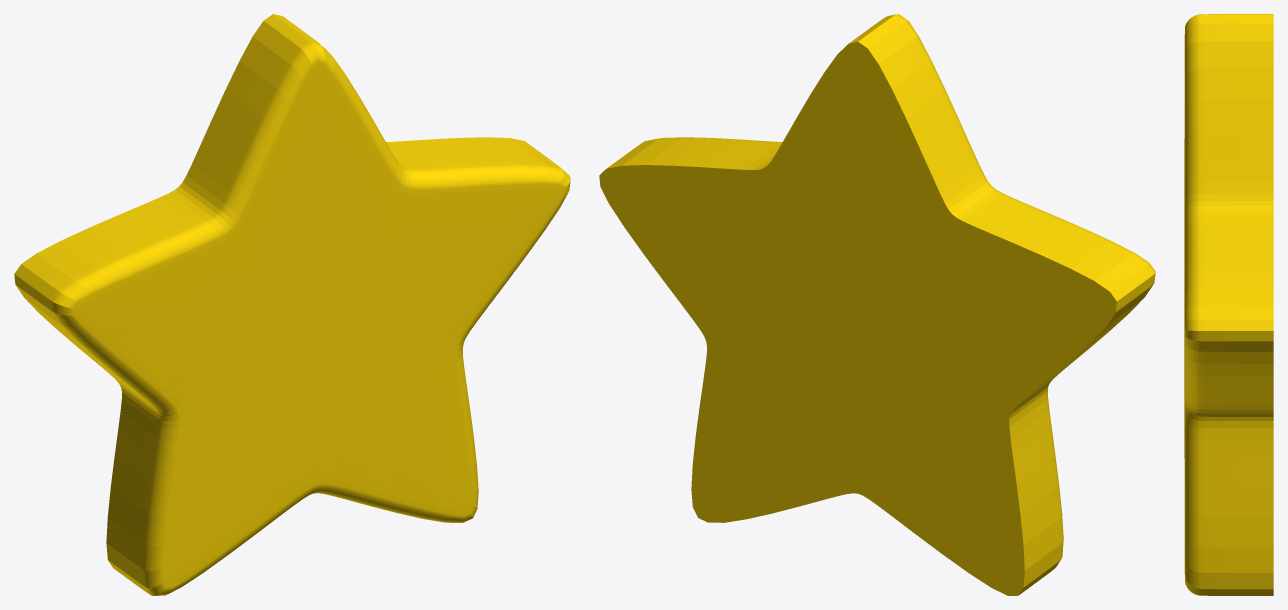
File: star.glb
3 renders of one model, left to right at view 1: azimuth 30°, elevation 25°; view 2: azimuth 150°, elevation 25°; view 3: azimuth 270°, elevation 25°, orthographic.
Visible parts, largest first — view 1: Circle.015; view 2: Circle.015; view 3: Circle.015.
Part boxes in pixels (x1,y1,x2,y2): Circle.015: [14, 14, 570, 595]; Circle.015: [599, 14, 1155, 595]; Circle.015: [1184, 14, 1273, 595].
Size of the model in its own units: 16.43 by 15.7 by 2.5.
